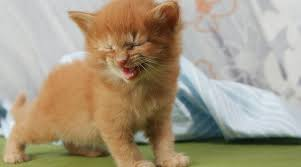Gato: (60, 2, 198, 98)
